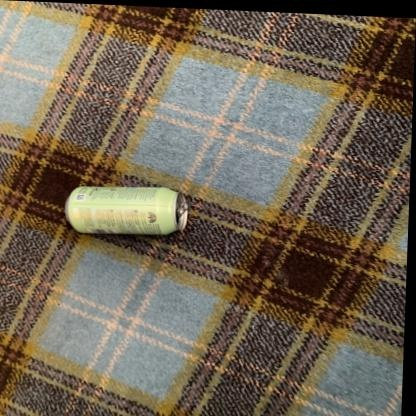trash: (65, 186, 188, 234)
